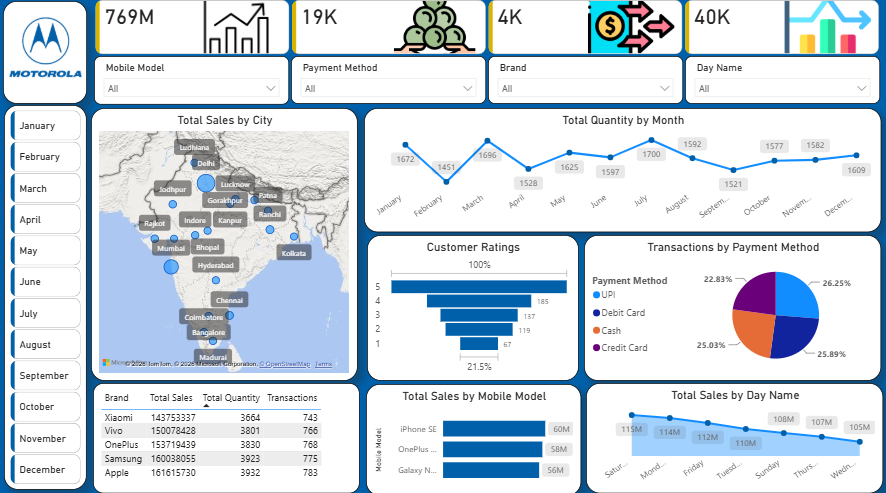

This screenshot's page, from the dashboard's own definition file:
{"tool":"powerbi","page":{"name":"mobile-sales-dashboard","canvas":[1280,720],"ordinal":0},"visuals":[{"type":"shape","box":[5.5,6.9,120.8,148.2],"z":0},{"type":"image","box":[9.6,16.5,113.9,116.6],"z":1000},{"type":"shape","box":[6.9,156.4,119.4,554.4],"z":2000},{"type":"advancedSlicerVisual","fields":{"Values":["Sales_Data.Date.Variation.Date Hierarchy.Month"]},"box":[11,160.5,111.1,548.9],"z":3000},{"type":"cardVisual","fields":{"Data":["Sales_Data.Total Sales","Sales_Data.Total Quantity","Sales_Data.Transactions","Sales_Data.Average"]},"box":[134,5.6,1140.1,83.7],"z":4000},{"type":"map","fields":{"Category":["Sales_Data.City"],"Size":["Sales_Data.Total Sales"]},"box":[132.9,160.8,384.1,393.1],"z":5000},{"type":"lineChart","fields":{"Category":["Sales_Data.Date.Variation.Date Hierarchy.Month","Sales_Data.Date.Variation.Date Hierarchy.Day"],"Y":["Sales_Data.Total Quantity"]},"box":[525.9,160.8,744.8,178.7],"z":6000},{"type":"clusteredBarChart","fields":{"Category":["Sales_Data.Mobile Model"],"Y":["Sales_Data.Total Sales"]},"box":[528.3,558.5,310.1,160.5],"z":7000},{"type":"pieChart","fields":{"Category":["Sales_Data.Payment Method"],"Y":["Sales_Data.Transactions"]},"box":[842.5,344.4,428.1,209.9],"z":8000},{"type":"funnel","title":"Customer Ratings","fields":{"Category":["Sales_Data.Customer Ratings"],"Y":["CountNonNull(Sales_Data.Customer Ratings)"]},"box":[529.7,344.4,304.6,209.9],"z":9000},{"type":"areaChart","fields":{"Category":["Sales_Data.Day Name"],"Y":["Sales_Data.Total Sales"]},"box":[845.3,557.1,428.1,159.2],"z":10000},{"type":"tableEx","fields":{"Values":["Sales_Data.Brand","Sales_Data.Total Sales","Sales_Data.Total Quantity","Sales_Data.Transactions"]},"box":[135.8,557.1,384.2,159.2],"z":11000},{"type":"slicer","fields":{"Values":["Sales_Data.Mobile Model"]},"box":[136.2,87.1,281.4,70.3],"z":12000},{"type":"slicer","fields":{"Values":["Sales_Data.Payment Method"]},"box":[421,87.1,281.4,69.2],"z":13000},{"type":"slicer","fields":{"Values":["Sales_Data.Brand"]},"box":[703.5,87.1,281.4,69.2],"z":14000},{"type":"slicer","fields":{"Values":["Sales_Data.Day Name"]},"box":[988.2,87.1,281.4,69.2],"z":15000}]}

Visuals, with their boxes in screenshot pixels (x1, y1, x2, y2), scaled from the page's 1280x720 canvas onto the 886x493 screenshot:
shape: [4,5,87,106]
image: [7,11,85,91]
shape: [5,107,87,487]
advancedSlicerVisual - Sales_Data.Date.Variation.Date Hierarchy.Month: [8,110,85,486]
cardVisual - Sales_Data.Total Sales x Sales_Data.Total Quantity: [93,4,882,61]
map - Sales_Data.City x Sales_Data.Total Sales: [92,110,358,379]
lineChart - Sales_Data.Date.Variation.Date Hierarchy.Month x Sales_Data.Date.Variation.Date Hierarchy.Day: [364,110,880,232]
clusteredBarChart - Sales_Data.Mobile Model x Sales_Data.Total Sales: [366,382,580,492]
pieChart - Sales_Data.Payment Method x Sales_Data.Transactions: [583,236,879,380]
"Customer Ratings" funnel: [367,236,577,380]
areaChart - Sales_Data.Day Name x Sales_Data.Total Sales: [585,381,881,490]
tableEx - Sales_Data.Brand x Sales_Data.Total Sales: [94,381,360,490]
slicer - Sales_Data.Mobile Model: [94,60,289,108]
slicer - Sales_Data.Payment Method: [291,60,486,107]
slicer - Sales_Data.Brand: [487,60,682,107]
slicer - Sales_Data.Day Name: [684,60,879,107]
